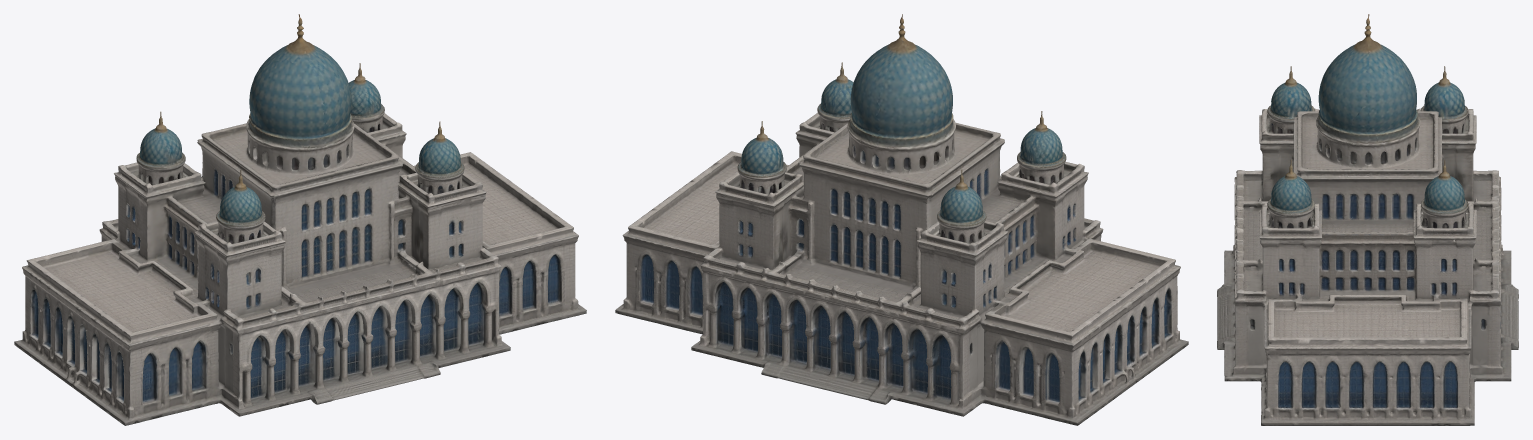
File: Meshy_AI_Azure_Dome_Palace_1017080538_texture.fbx
3 renders of one model, left to right at view 1: azimuth 30°, elevation 25°; view 2: azimuth 150°, elevation 25°; view 3: azimuth 270°, elevation 25°, orthographic. The views are drawn at different scales.
Visible parts, largest first — view 1: Mesh_0; view 2: Mesh_0; view 3: Mesh_0.
Part boxes in pixels (bbox=[...]): Mesh_0: bbox=[14, 14, 586, 425]; Mesh_0: bbox=[615, 14, 1188, 425]; Mesh_0: bbox=[1217, 14, 1518, 425].
Bounding box in the file's own units: 190 × 125 × 112.
Materials: 1 (1 with a texture image).
